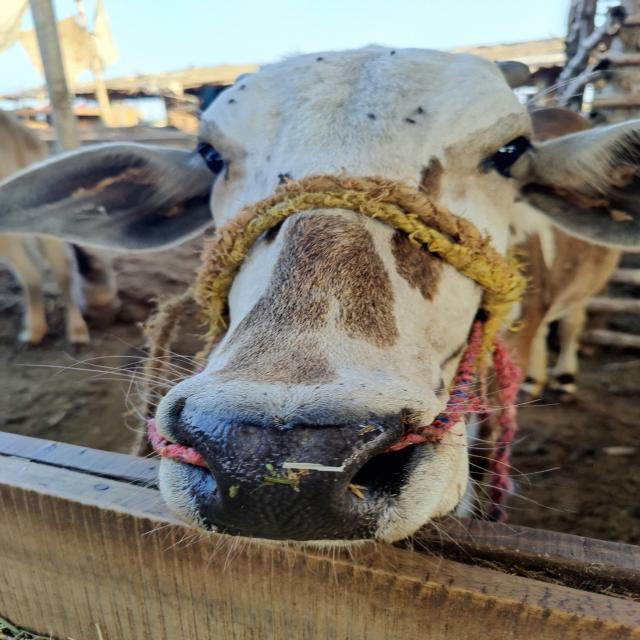muzzles: (162, 388, 428, 542)
